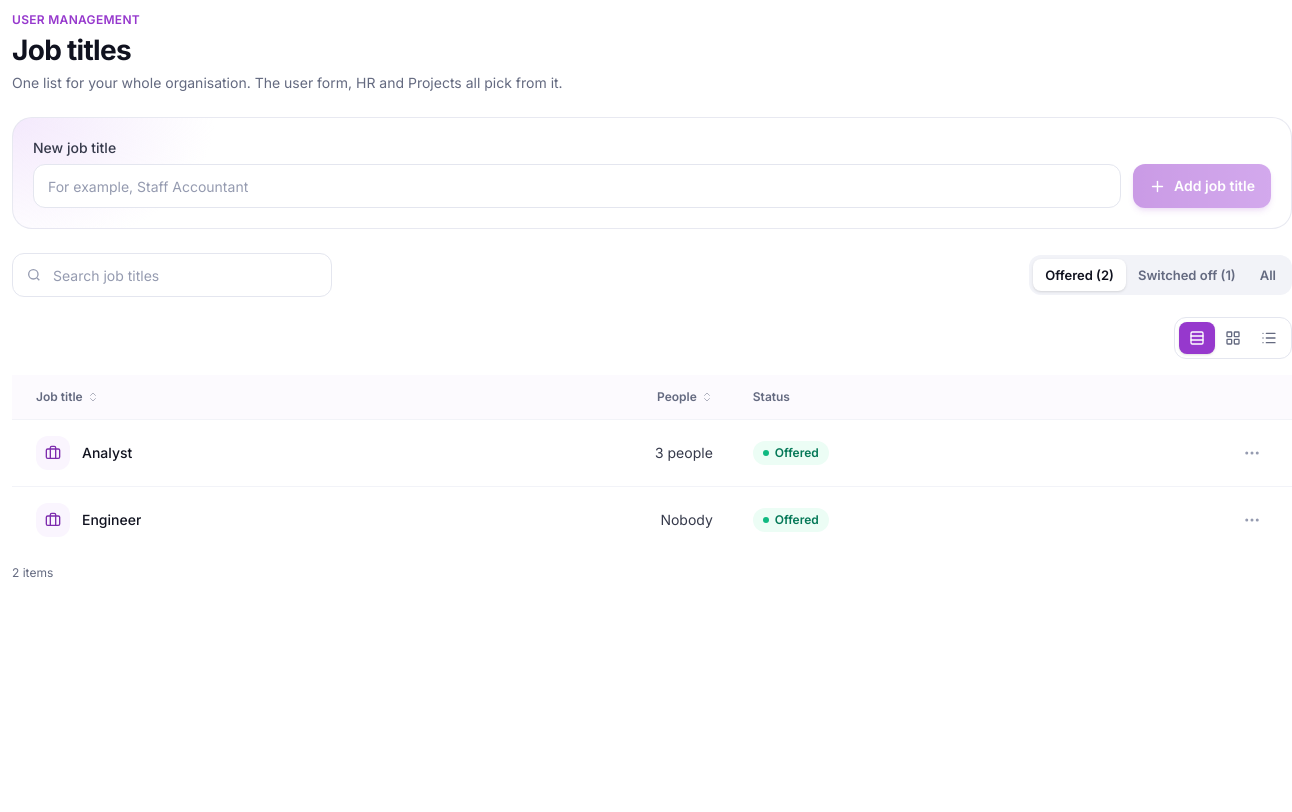
JobTitlesBoard › lists offered titles with how many hold each, including the switched-off ones on request
Expected: the text "Analyst" is shown, [82,443,132,463]
Expected: the text "3 people" is shown, [655,444,713,461]
Click the radio button labelled "Switched off (1)" at (1187, 275), box [1126,259,1248,291]
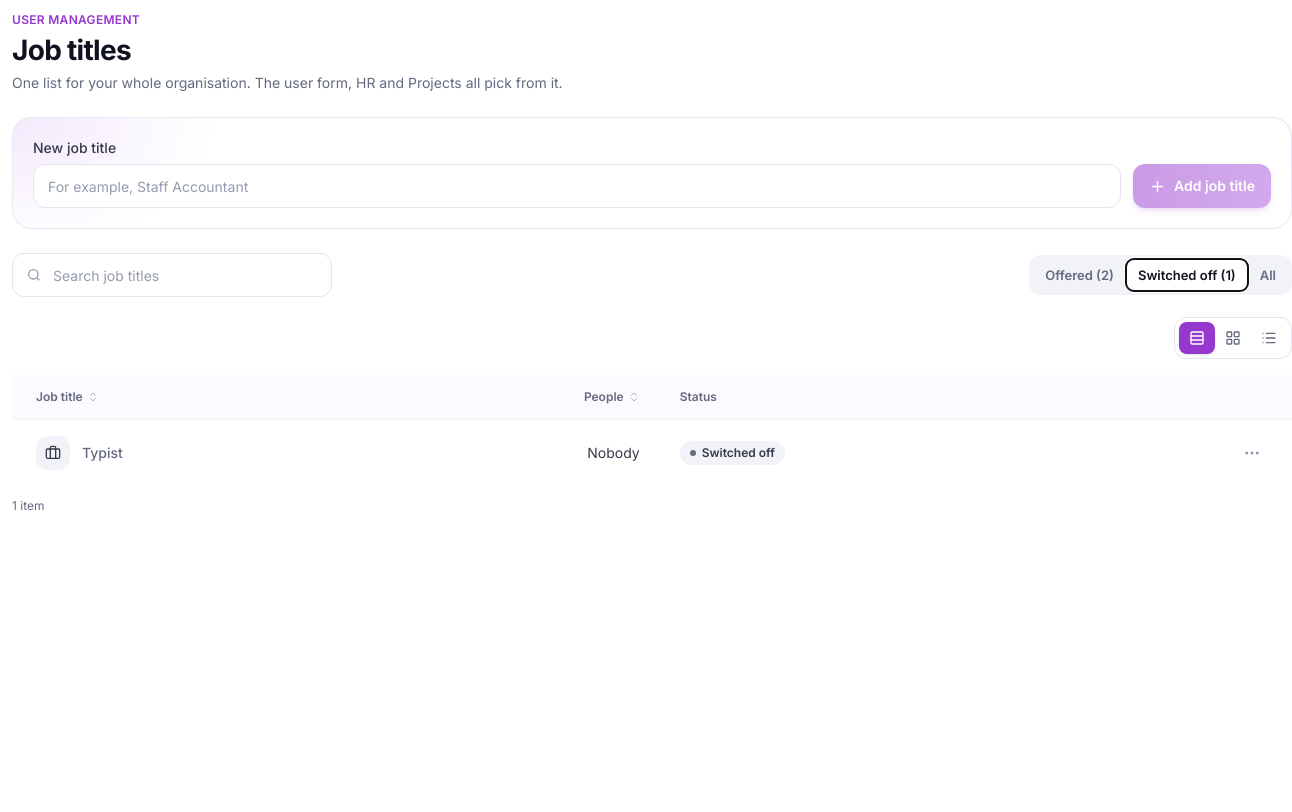
Result: the text "Typist" is shown at [82,443,123,463]
